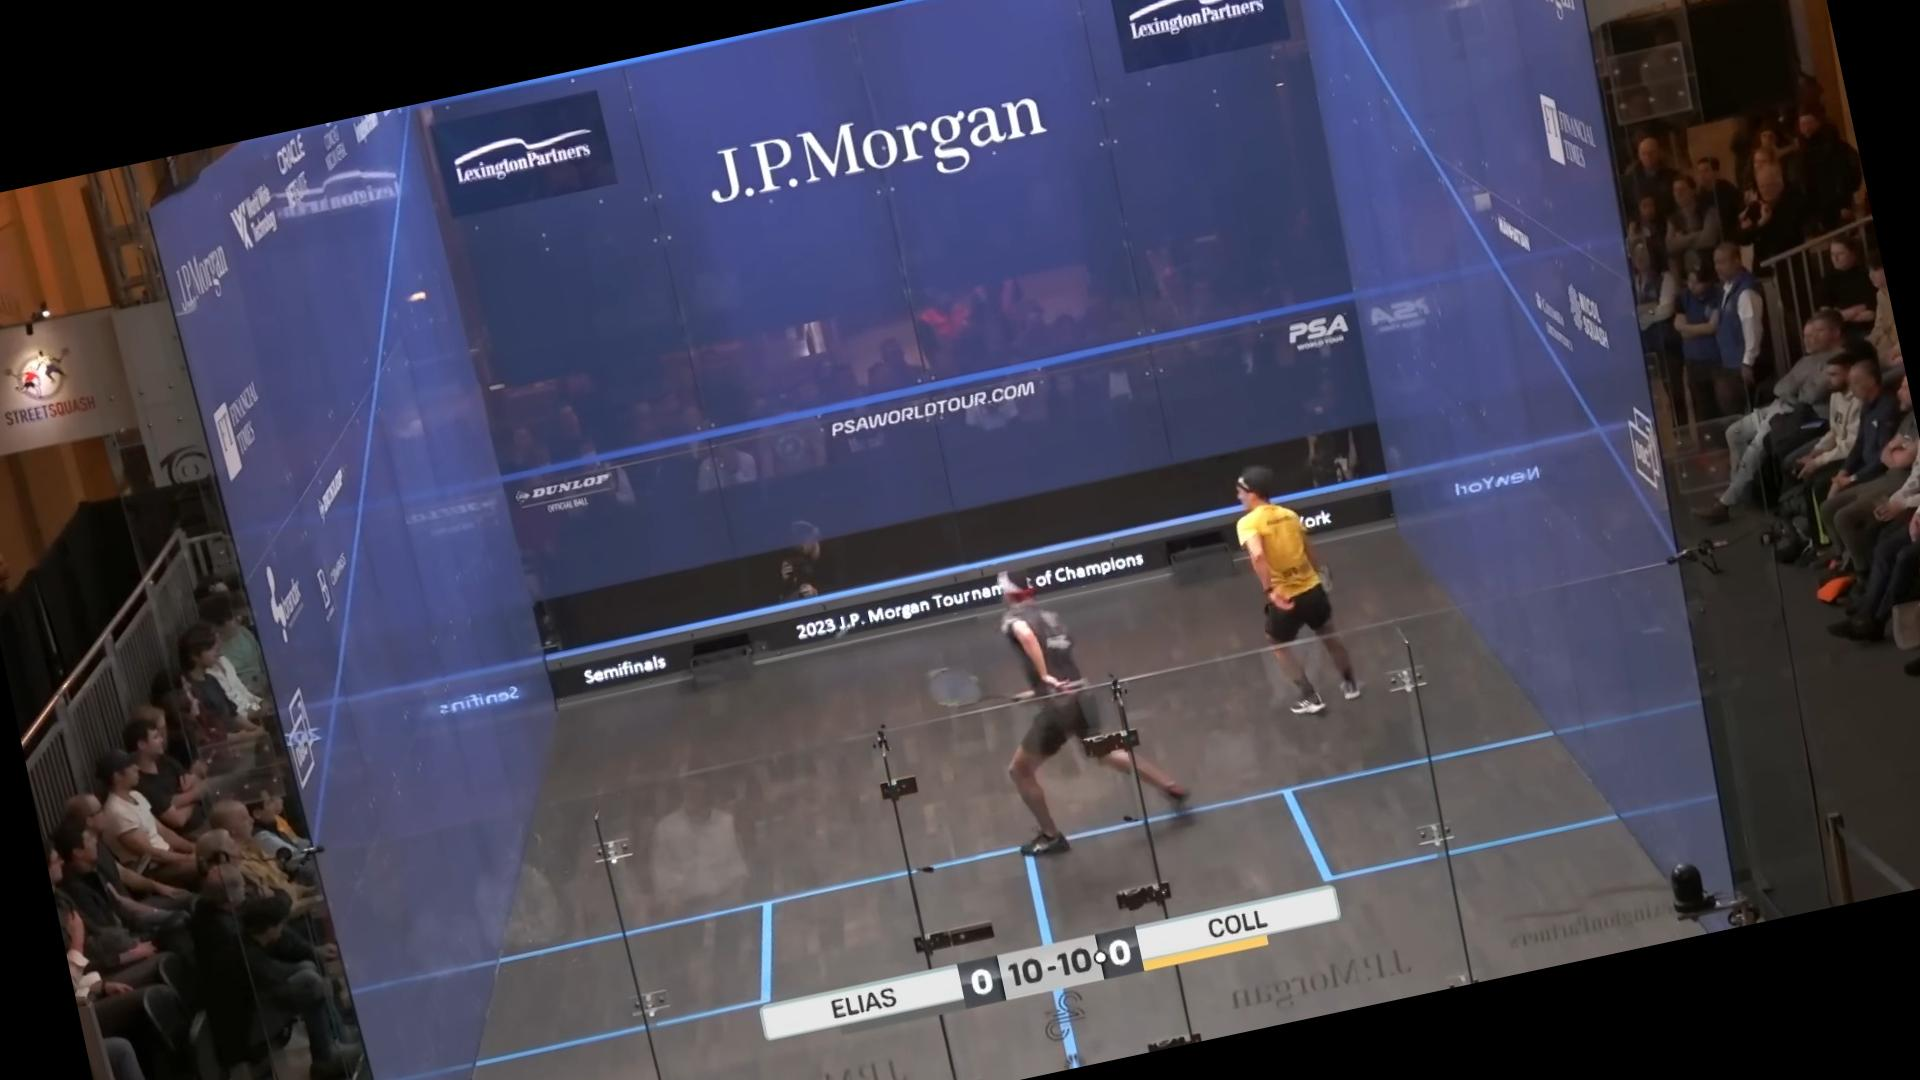Racket: (907, 644, 1026, 727)
